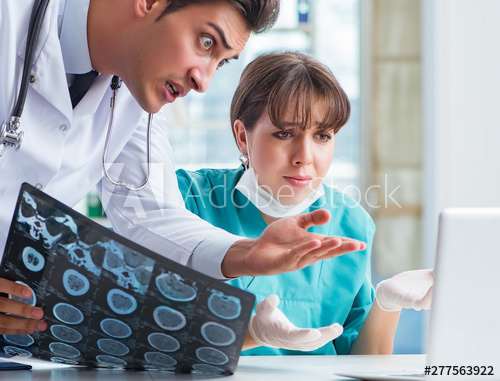mask_weared_incorrect: (230, 96, 342, 218)
